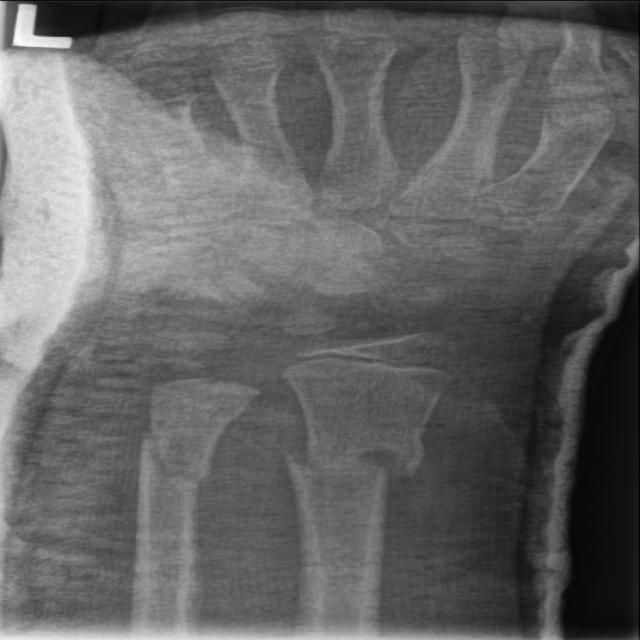radius fracture: (252, 404, 461, 567)
ulna fracture: (93, 397, 243, 562)
